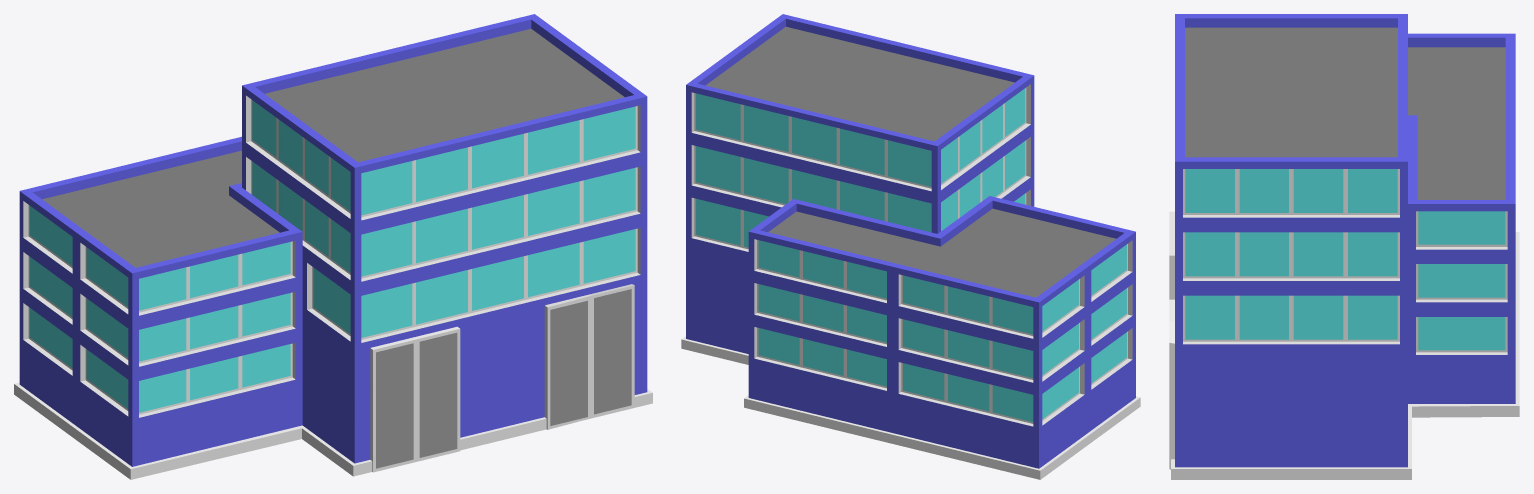
The model's file is SM_House_20_05.FBX.
3 renders of one model, left to right at view 1: azimuth 30°, elevation 25°; view 2: azimuth 150°, elevation 25°; view 3: azimuth 270°, elevation 25°, orthographic. The views are drawn at different scales.
Visible parts, largest first — view 1: SM_House_20_05; view 2: SM_House_20_05; view 3: SM_House_20_05.
Part boxes in pixels (x1,y1,x2,y2): SM_House_20_05: (14,14,652,479); SM_House_20_05: (681,14,1140,479); SM_House_20_05: (1169,14,1519,479).
Bounding box in the file's own units: 9.63 × 6 × 6.02.
1 material, 1 textured.
